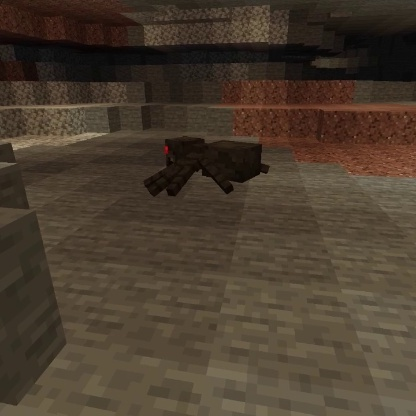spider: (140, 134, 272, 199)
